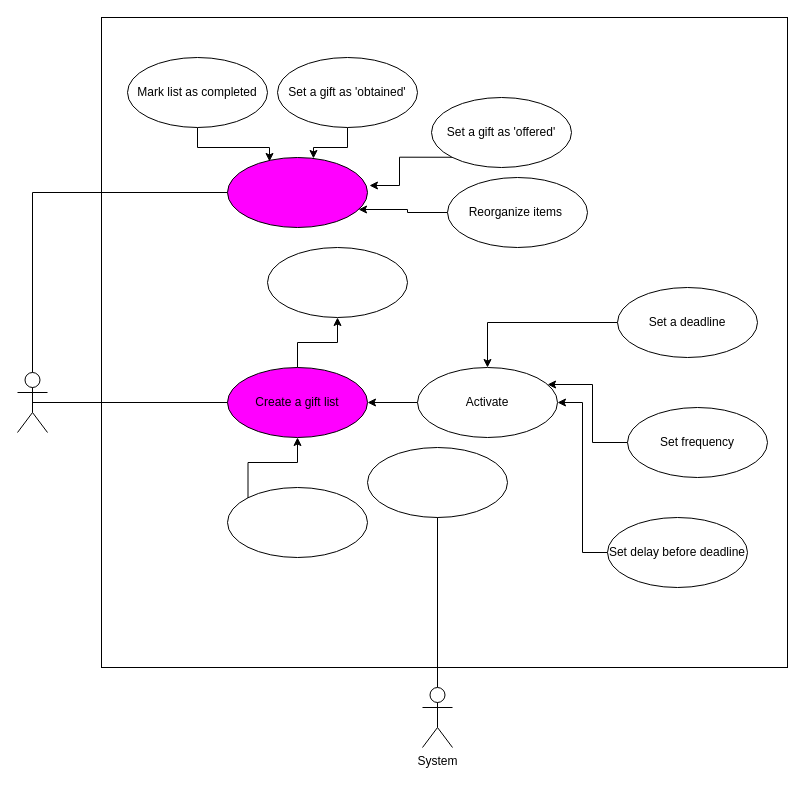
Image size: 805x786. Some labels were removed from this diagram. Here are the shapes that lost their labels. From the top down, the centre of each, then its label:
the point at 297,192: See a gift list
the point at 337,282: Give the list a name
the point at 32,402: User
the point at 437,482: Record date of creation
the point at 297,522: Select gifts among available 'to offer' gifts'
